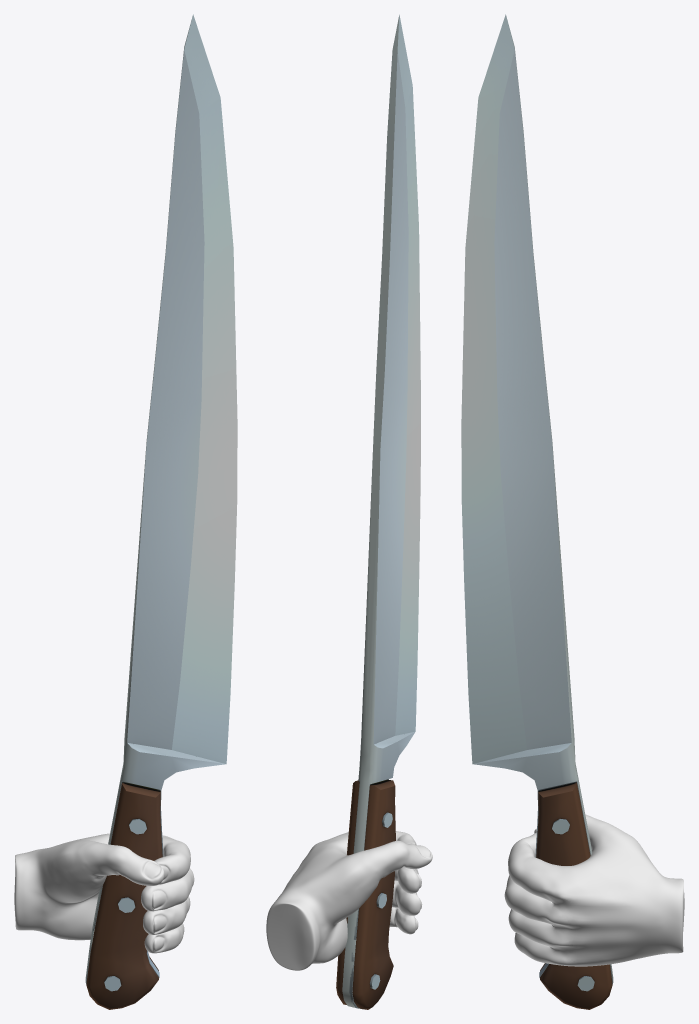
Rendered from нож с левой рукой вместе.fbx.
The picture shows the model from 3 angles, left to right: view 1: azimuth 90°, elevation 25°; view 2: azimuth 150°, elevation 25°; view 3: azimuth 270°, elevation 25°; orthographic projection. The views are drawn at different scales.
Visible parts, largest first — view 1: левая рука.002; view 2: левая рука.002; view 3: левая рука.002.
Boxes of the visible parts, box(x1,y1,x2,y2) form: левая рука.002: box(14, 14, 237, 1009); левая рука.002: box(266, 14, 432, 1009); левая рука.002: box(461, 14, 684, 1009).
Size of the model in its own units: 16.58 by 136 by 27.81.
2 materials, 1 textured.
